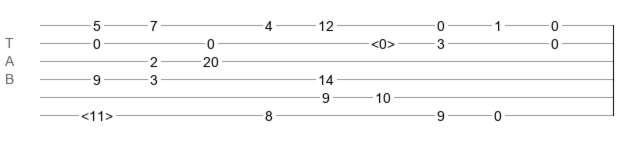0: (93, 36, 101, 46), (207, 36, 215, 46), (437, 18, 445, 28), (494, 108, 502, 118), (551, 36, 559, 46), (551, 18, 559, 28)
1: (494, 18, 502, 28)
10: (375, 90, 391, 100)
12: (318, 18, 334, 28)
14: (318, 72, 334, 82)
2: (150, 54, 158, 64)
20: (203, 54, 219, 64)
3: (150, 72, 158, 82), (437, 36, 445, 46)
4: (265, 18, 273, 28)
5: (93, 18, 101, 28)
7: (150, 18, 158, 28)
8: (265, 108, 273, 118)
9: (93, 72, 101, 82), (322, 90, 330, 100), (437, 108, 445, 118)
harmonic: (81, 108, 113, 118), (371, 36, 395, 46)
